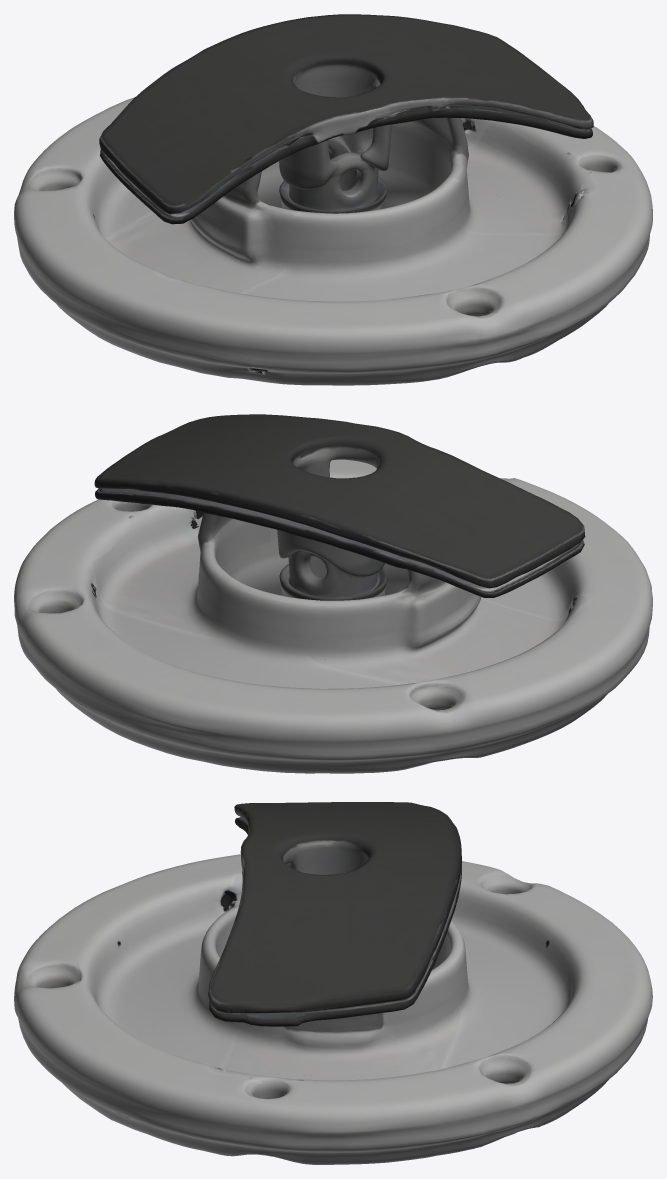
The model's file is check valve 3d model.glb.
3 renders of one model, top to bottom at view 1: azimuth 30°, elevation 25°; view 2: azimuth 150°, elevation 25°; view 3: azimuth 270°, elevation 25°, orthographic.
Parts seen in each view (by area): view 1: tripo_node_db9dbef9-a2a0-4796-865c-08ee34077909; view 2: tripo_node_db9dbef9-a2a0-4796-865c-08ee34077909; view 3: tripo_node_db9dbef9-a2a0-4796-865c-08ee34077909.
Part boxes in pixels (x1=…): tripo_node_db9dbef9-a2a0-4796-865c-08ee34077909: x1=14, y1=14, x2=652, y2=385; tripo_node_db9dbef9-a2a0-4796-865c-08ee34077909: x1=14, y1=414, x2=652, y2=773; tripo_node_db9dbef9-a2a0-4796-865c-08ee34077909: x1=14, y1=802, x2=652, y2=1164.
Size of the model in its own units: 0.9782 by 0.3539 by 0.9788.
1 material, 1 textured.
